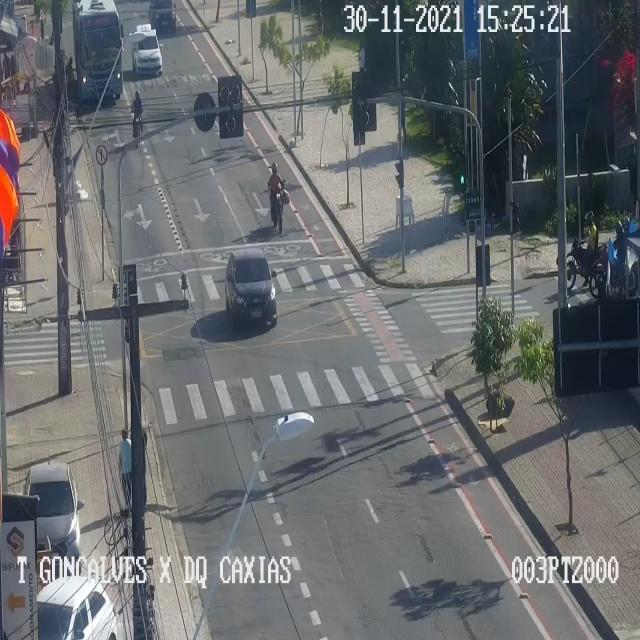Bus: (72, 7, 125, 102)
Car: (25, 462, 83, 558), (37, 576, 115, 639), (225, 244, 277, 330), (130, 23, 163, 77), (148, 0, 182, 35)
Motorcycle: (590, 216, 640, 295), (567, 210, 605, 292), (268, 162, 286, 234), (131, 89, 143, 147)
